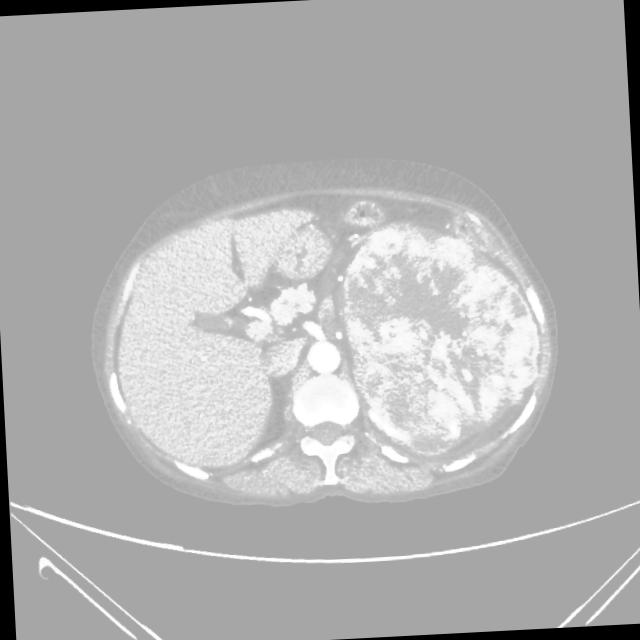TUMOR: (344, 252, 565, 410)
